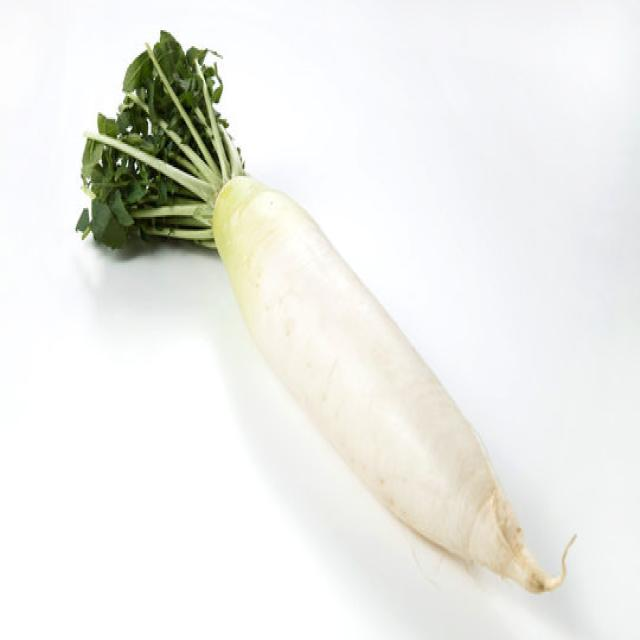Coriander Leaves: (75, 29, 245, 252)
Radish: (76, 27, 576, 596)
